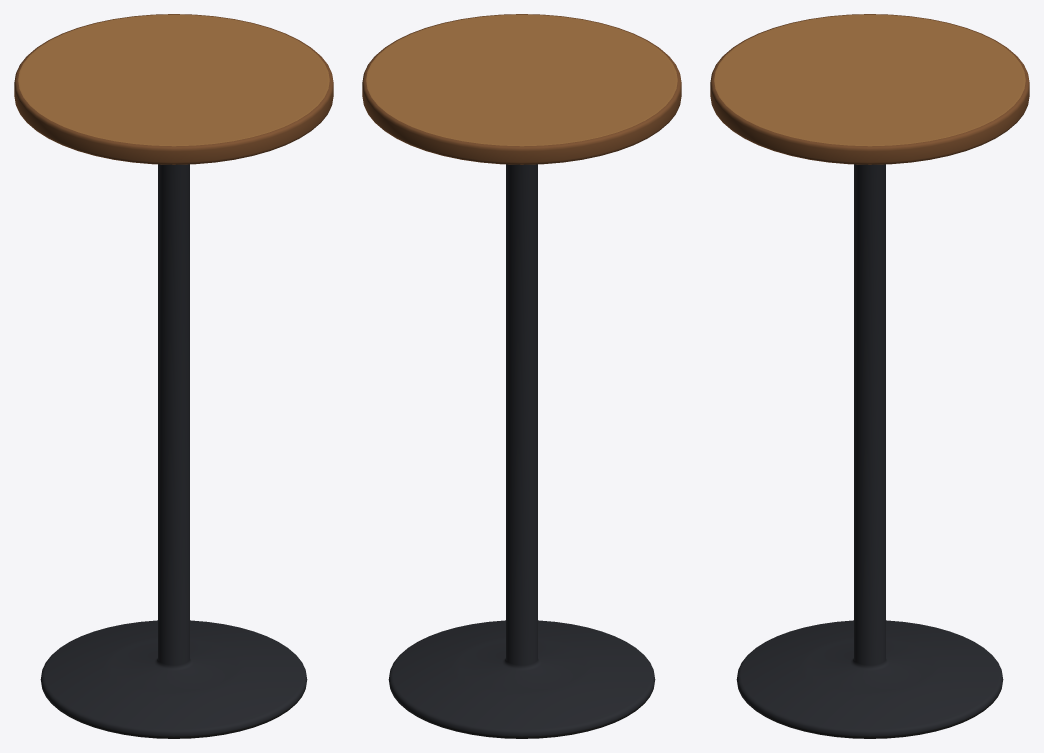
Rendered from BarTable.fbx.
3 renders of one model, left to right at view 1: azimuth 30°, elevation 25°; view 2: azimuth 150°, elevation 25°; view 3: azimuth 270°, elevation 25°, orthographic.
Parts seen in each view (by area): view 1: BarTable; view 2: BarTable; view 3: BarTable.
Boxes of the visible parts, x1,y1,x2,y2 form: BarTable: (14,14,333,738); BarTable: (362,14,681,738); BarTable: (710,14,1029,738).
Size of the model in its own units: 0.48 by 1 by 0.48.
